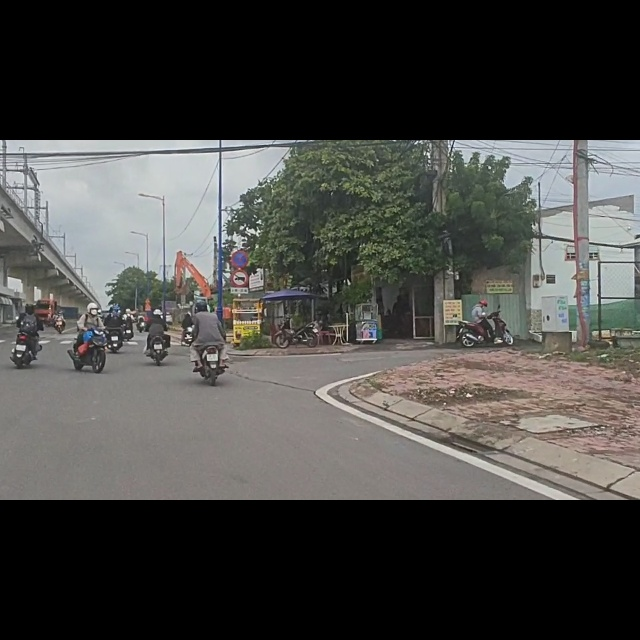bien_nguy_hiem: (231, 197, 251, 229), (231, 231, 250, 261)
